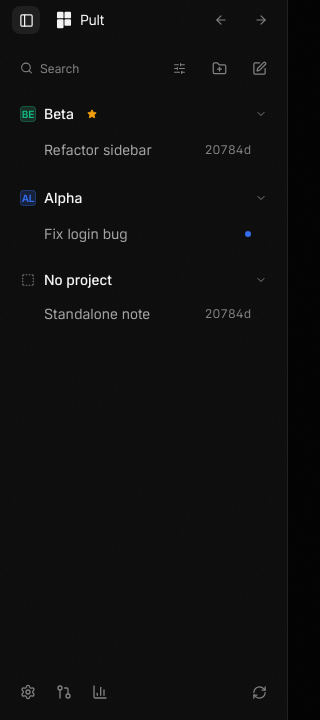
it: Sidebar › collapsing a project hides its nested threads
Expected: the text "Fix login bug" is shown, [44, 224, 128, 244]
Click the button "AL Alpha": (51, 198) [16, 186, 86, 210]
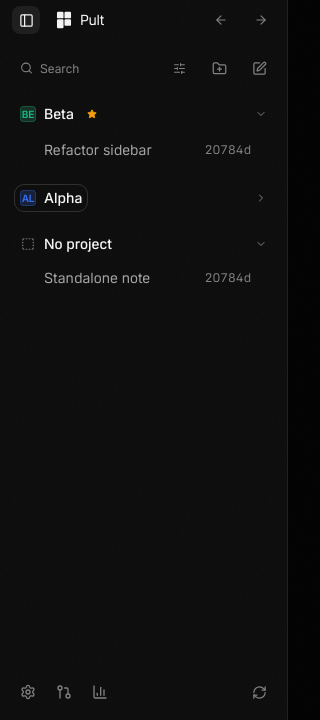
Now the link "Fix login bug" is gone
